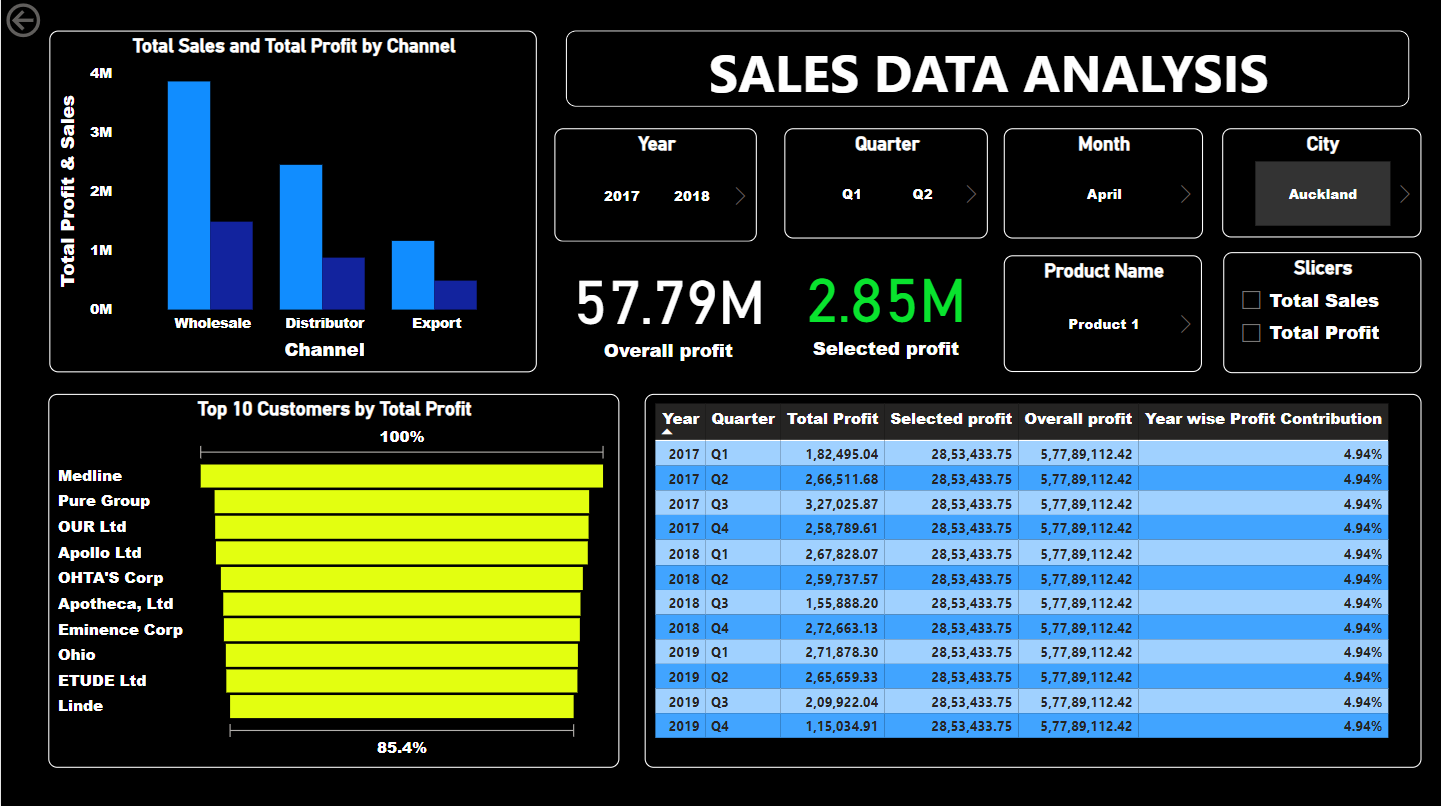

Layout of this report page (visuals, bound fields, positions):
{"tool":"powerbi","page":{"name":"Page 1","canvas":[1280,720],"ordinal":0},"visuals":[{"type":"clusteredColumnChart","fields":{"Category":["orders.Channel"],"Y":["measures table.Total Sales","measures table.Total Profit"]},"box":[42.5,29.2,433.3,303.3],"z":0},{"type":"funnel","title":"Top 10 Customers by Total  Profit","fields":{"Category":["sales top_10_customers.Customer Names"],"Y":["Sum(sales top_10_customers.Total Profit)"]},"box":[42.5,351.7,507.5,303.3],"z":1},{"type":"actionButton","box":[0,0,100,40],"z":3},{"type":"slicer","title":"Slicers","fields":{"Values":["Slicers.Slicers"]},"box":[1085.8,225.8,175.8,107.5],"z":4},{"type":"slicer","title":"Year","fields":{"Values":["DateTable.Year"]},"box":[505,127.5,180.8,76.7],"z":6},{"type":"card","fields":{"Values":["measures table.Selected profit"]},"box":[672.5,213.3,207.5,119.2],"z":7},{"type":"card","fields":{"Values":["measures table.Overall profit"]},"box":[480.8,213.3,205,119.2],"z":8},{"type":"tableEx","fields":{"Values":["DateTable.Year","DateTable.Quarter","measures table.Total Profit","measures table.Selected profit","measures table.Overall profit","measures table.Yearwise Profit Contribution"]},"box":[572.5,351.7,690,303.3],"z":9},{"type":"slicer","title":"Month","fields":{"Values":["DateTable.Month"]},"box":[890.8,115.8,176.7,100.8],"z":10},{"type":"slicer","title":"Quarter","fields":{"Values":["DateTable.Quarter"]},"box":[696.7,115.8,180.8,100.8],"z":11},{"type":"slicer","title":"City","fields":{"Values":["regions.City"]},"box":[1085.8,115.8,176.7,100.8],"z":12},{"type":"slicer","title":"Product Name","fields":{"Values":["products.Product Name"]},"box":[890.8,228.3,176.7,104.2],"z":13},{"type":"textbox","title":"SALES  DATA ANALYSIS","box":[505,29.2,750,67.5],"z":14}]}

Visuals, with their boxes in screenshot pixels (x1, y1, x2, y2), scaled from the page's 1280x720 canvas onto the 1441x806 screenshot:
clusteredColumnChart - orders.Channel x measures table.Total Sales: (48, 33, 536, 372)
"Top 10 Customers by Total  Profit" funnel: (48, 394, 619, 733)
actionButton: (0, 0, 113, 45)
"Slicers" slicer: (1222, 253, 1420, 373)
"Year" slicer: (569, 143, 772, 229)
card - measures table.Selected profit: (757, 239, 991, 372)
card - measures table.Overall profit: (541, 239, 772, 372)
tableEx - DateTable.Year x DateTable.Quarter: (645, 394, 1421, 733)
"Month" slicer: (1003, 130, 1202, 242)
"Quarter" slicer: (784, 130, 988, 242)
"City" slicer: (1222, 130, 1421, 242)
"Product Name" slicer: (1003, 256, 1202, 372)
"SALES  DATA ANALYSIS" textbox: (569, 33, 1413, 108)
